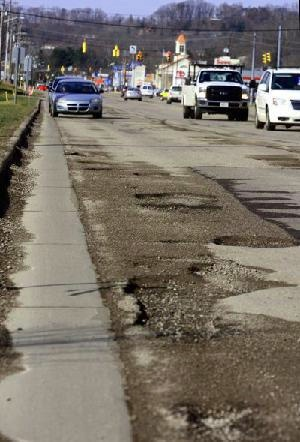pothole: (120, 272, 218, 346), (177, 398, 259, 433), (187, 260, 260, 294), (135, 201, 223, 219), (207, 231, 298, 248), (133, 189, 215, 196), (129, 169, 170, 178)
